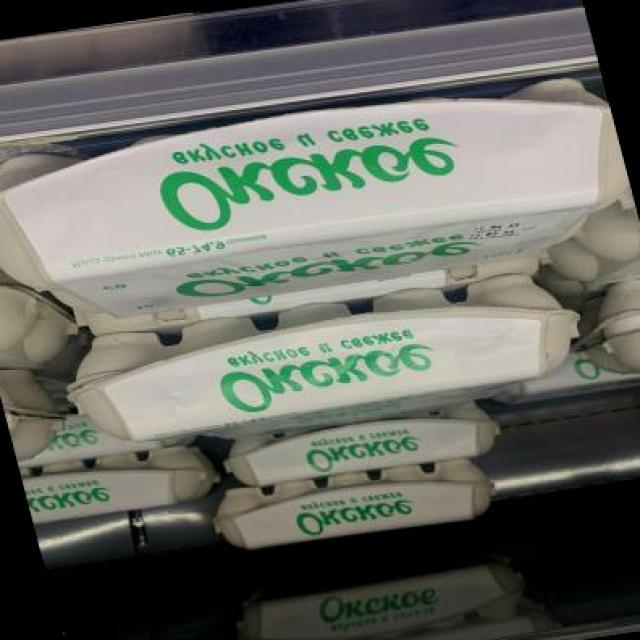egg: (0, 66, 640, 340), (58, 266, 598, 452), (201, 451, 508, 557), (216, 398, 507, 491), (565, 276, 640, 384)
